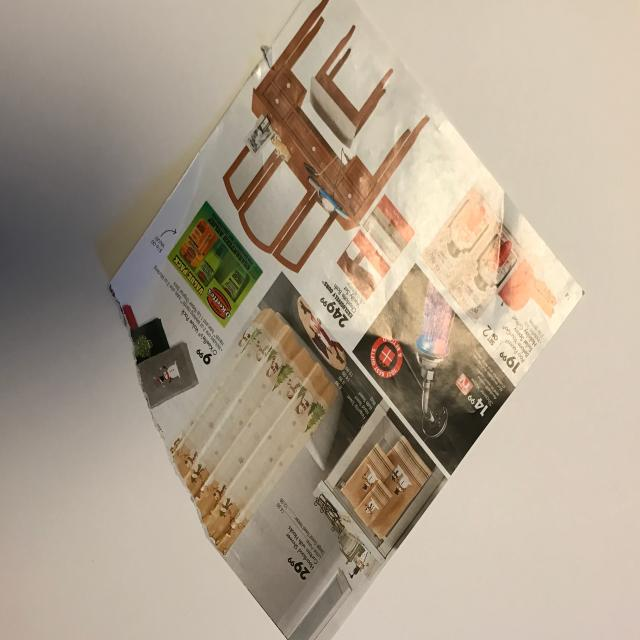paper: (111, 2, 585, 640)
